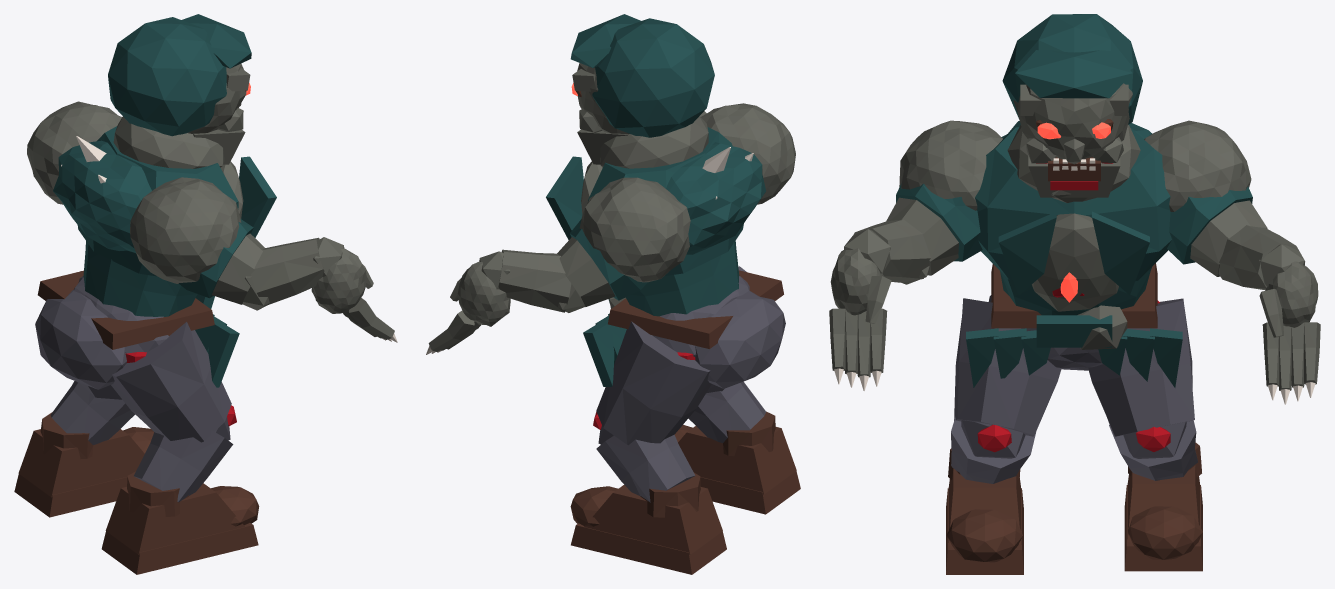
The picture shows the model from 3 angles, left to right: view 1: azimuth 30°, elevation 25°; view 2: azimuth 150°, elevation 25°; view 3: azimuth 270°, elevation 25°; orthographic projection. The views are drawn at different scales.
Visible parts, largest first — view 1: torso__alpha, head__alpha, armR__alpha, footR__alpha, hip__alpha, footL__alpha, legR__alpha, shinR__alpha, armL__alpha, handR__alpha, foreArmR__alpha, shinL__alpha; view 2: torso__alpha, head__alpha, armL__alpha, footL__alpha, hip__alpha, legL__alpha, footR__alpha, armR__alpha, shinL__alpha, handL__alpha, foreArmL__alpha, shinR__alpha; view 3: torso__alpha, head__alpha, armL__alpha, armR__alpha, handR__alpha, footL__alpha, handL__alpha, footR__alpha, legR__alpha, legL__alpha, shinR__alpha, hip__alpha (+3 smaller).
Part boxes in pixels (<box>): torso__alpha: <box>53,116,276,387</box>; head__alpha: <box>108,14,251,164</box>; armR__alpha: <box>130,177,264,304</box>; footR__alpha: <box>101,471,259,574</box>; hip__alpha: <box>35,270,214,389</box>; footL__alpha: <box>14,412,153,517</box>; legR__alpha: <box>111,322,231,442</box>; shinR__alpha: <box>134,405,236,502</box>; armL__alpha: <box>27,101,121,204</box>; handR__alpha: <box>311,237,397,342</box>; foreArmR__alpha: <box>242,237,324,310</box>; shinL__alpha: <box>50,381,134,444</box>; torso__alpha: <box>546,116,765,386</box>; head__alpha: <box>570,14,714,164</box>; armL__alpha: <box>557,177,690,306</box>; footL__alpha: <box>570,472,726,574</box>; hip__alpha: <box>608,270,785,388</box>; legL__alpha: <box>596,321,711,445</box>; footR__alpha: <box>674,411,800,514</box>; armR__alpha: <box>701,103,795,204</box>; shinL__alpha: <box>593,412,695,502</box>; handL__alpha: <box>426,251,510,354</box>; foreArmL__alpha: <box>498,249,584,312</box>; shinR__alpha: <box>688,381,765,443</box>; torso__alpha: <box>966,121,1182,387</box>; head__alpha: <box>1002,14,1142,197</box>; armL__alpha: <box>1144,120,1267,276</box>; armR__alpha: <box>886,120,1002,275</box>; handR__alpha: <box>829,229,891,390</box>; footL__alpha: <box>1124,442,1202,571</box>; handL__alpha: <box>1259,244,1320,404</box>; footR__alpha: <box>946,448,1023,574</box>; legR__alpha: <box>954,298,1061,436</box>; legL__alpha: <box>1088,298,1194,436</box>; shinR__alpha: <box>951,417,1035,483</box>; hip__alpha: <box>988,263,1157,370</box>.
Bounding box in the file's own units: 1.23 × 2.35 × 1.95.
